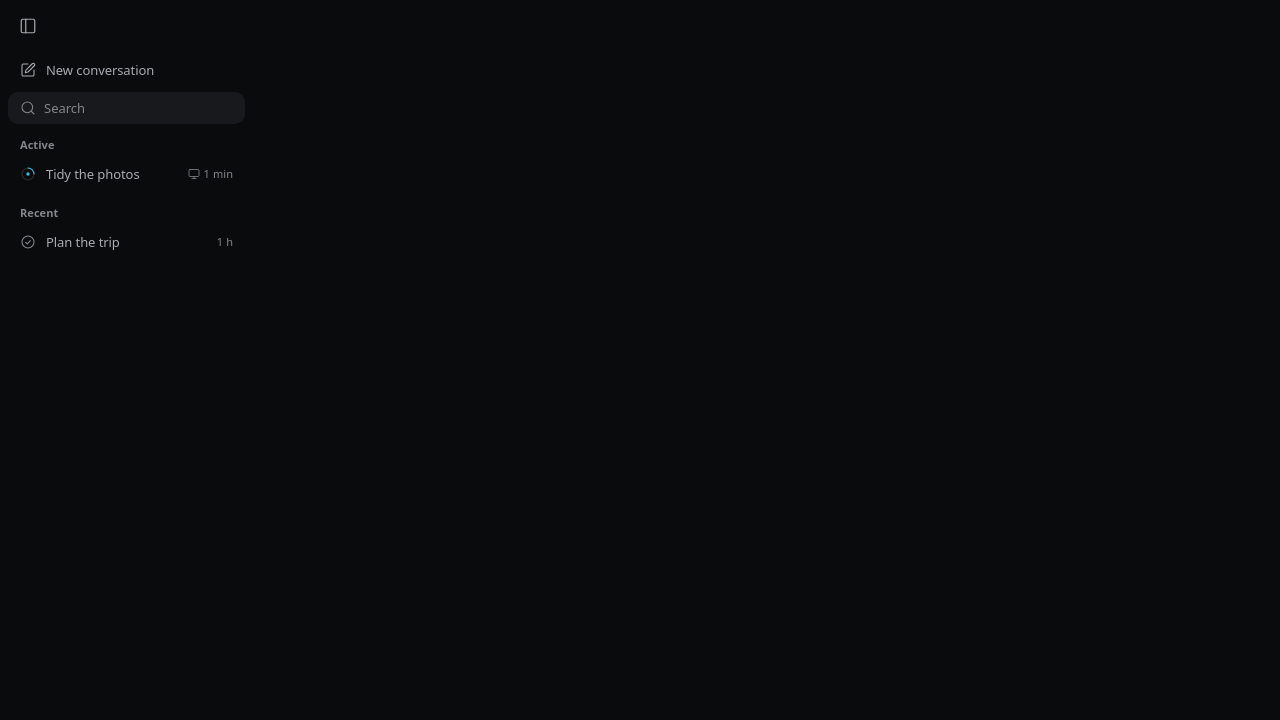
Test: deletes a conversation from its menu once asked, and never one under way
Right-click the button "Tidy the photos 1 min".
right_click(126, 174)  # box [8,156,245,192]
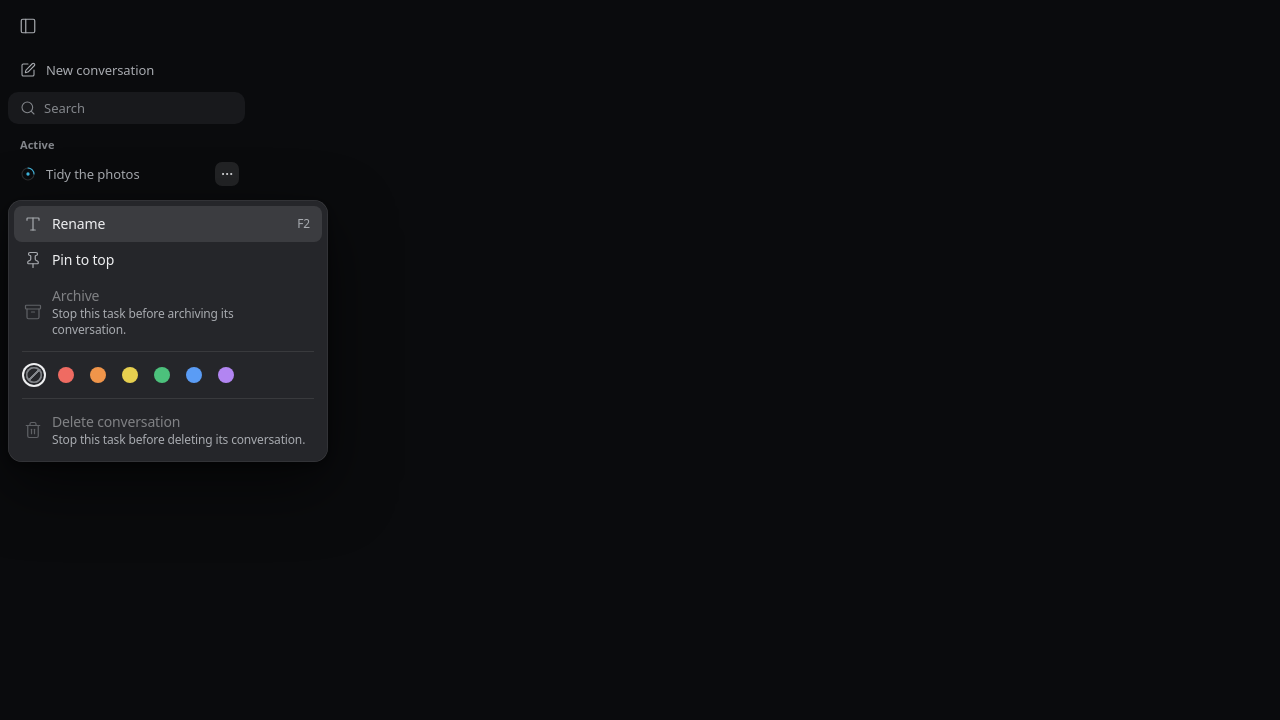
Press Escape in the menu named "Conversation actions", box [8,200,328,462]
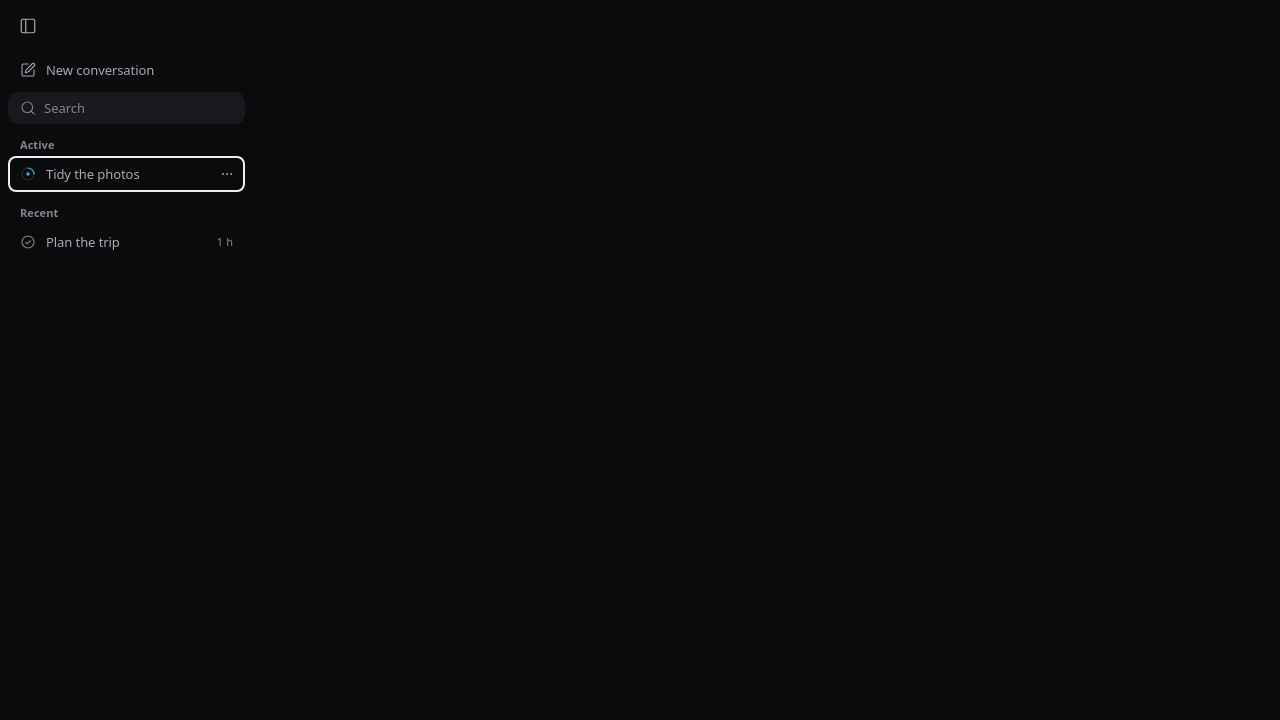
Right-click the button "Plan the trip 1 h".
right_click(126, 242)  # box [8,224,245,260]
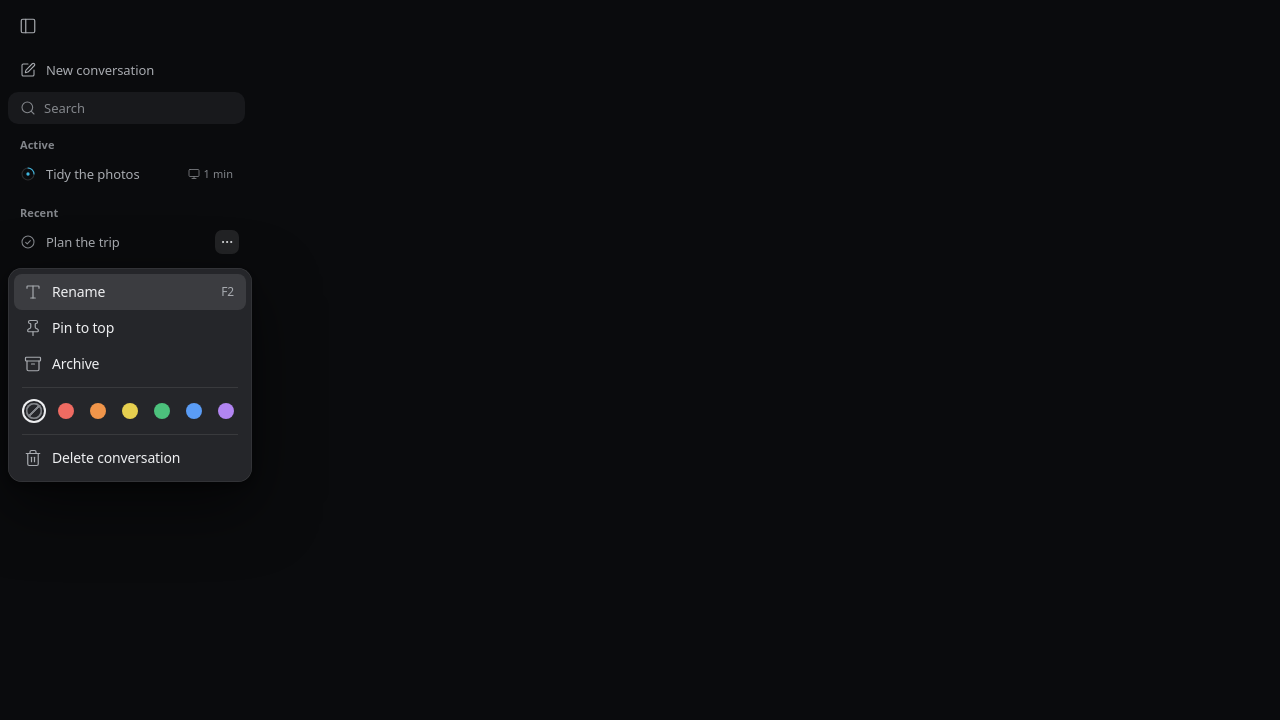
Click the menu item "Delete conversation".
click(130, 458)  # box [14,440,246,476]
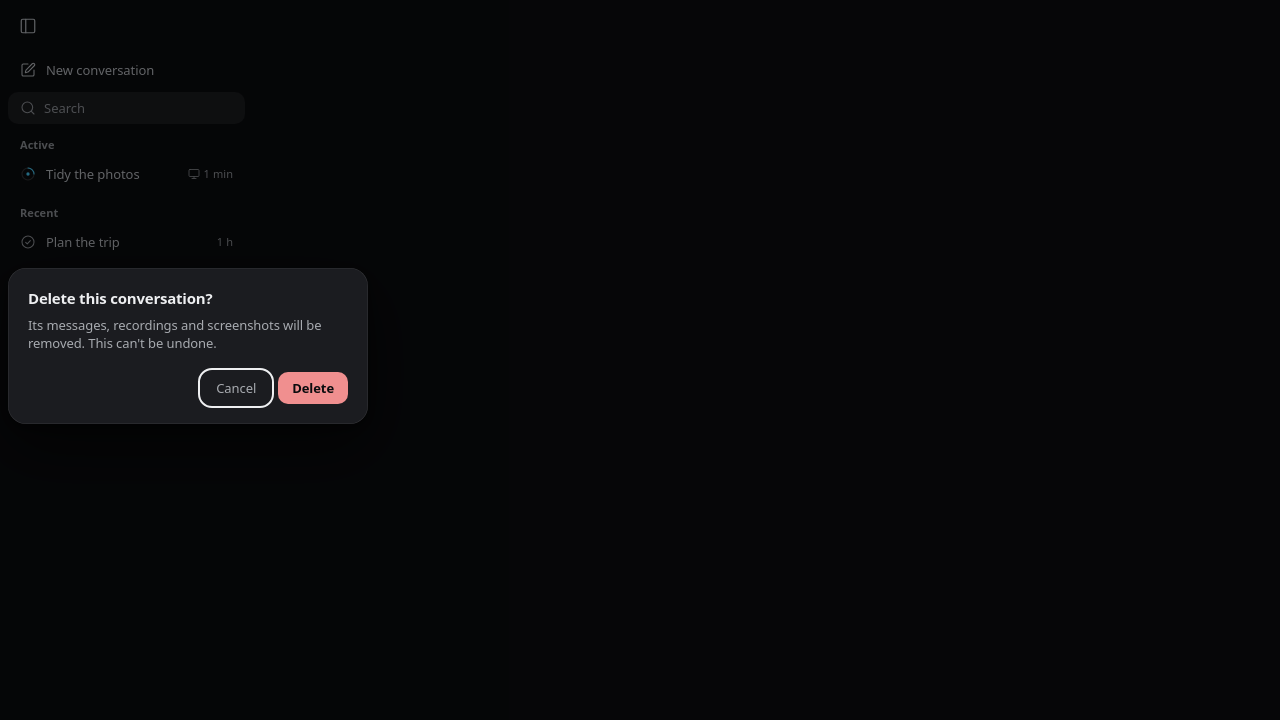
Click the button "Delete".
click(313, 388)  # box [278,372,348,404]
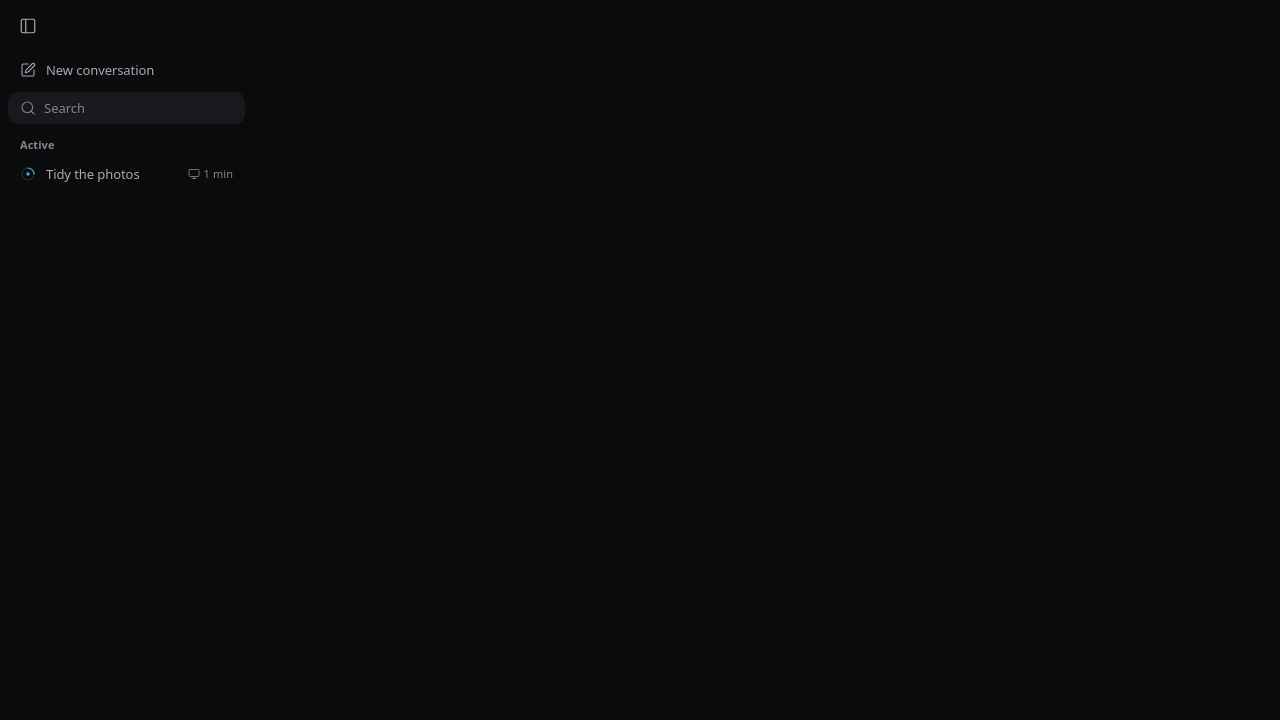
expect the button "Plan the trip" is gone: met
